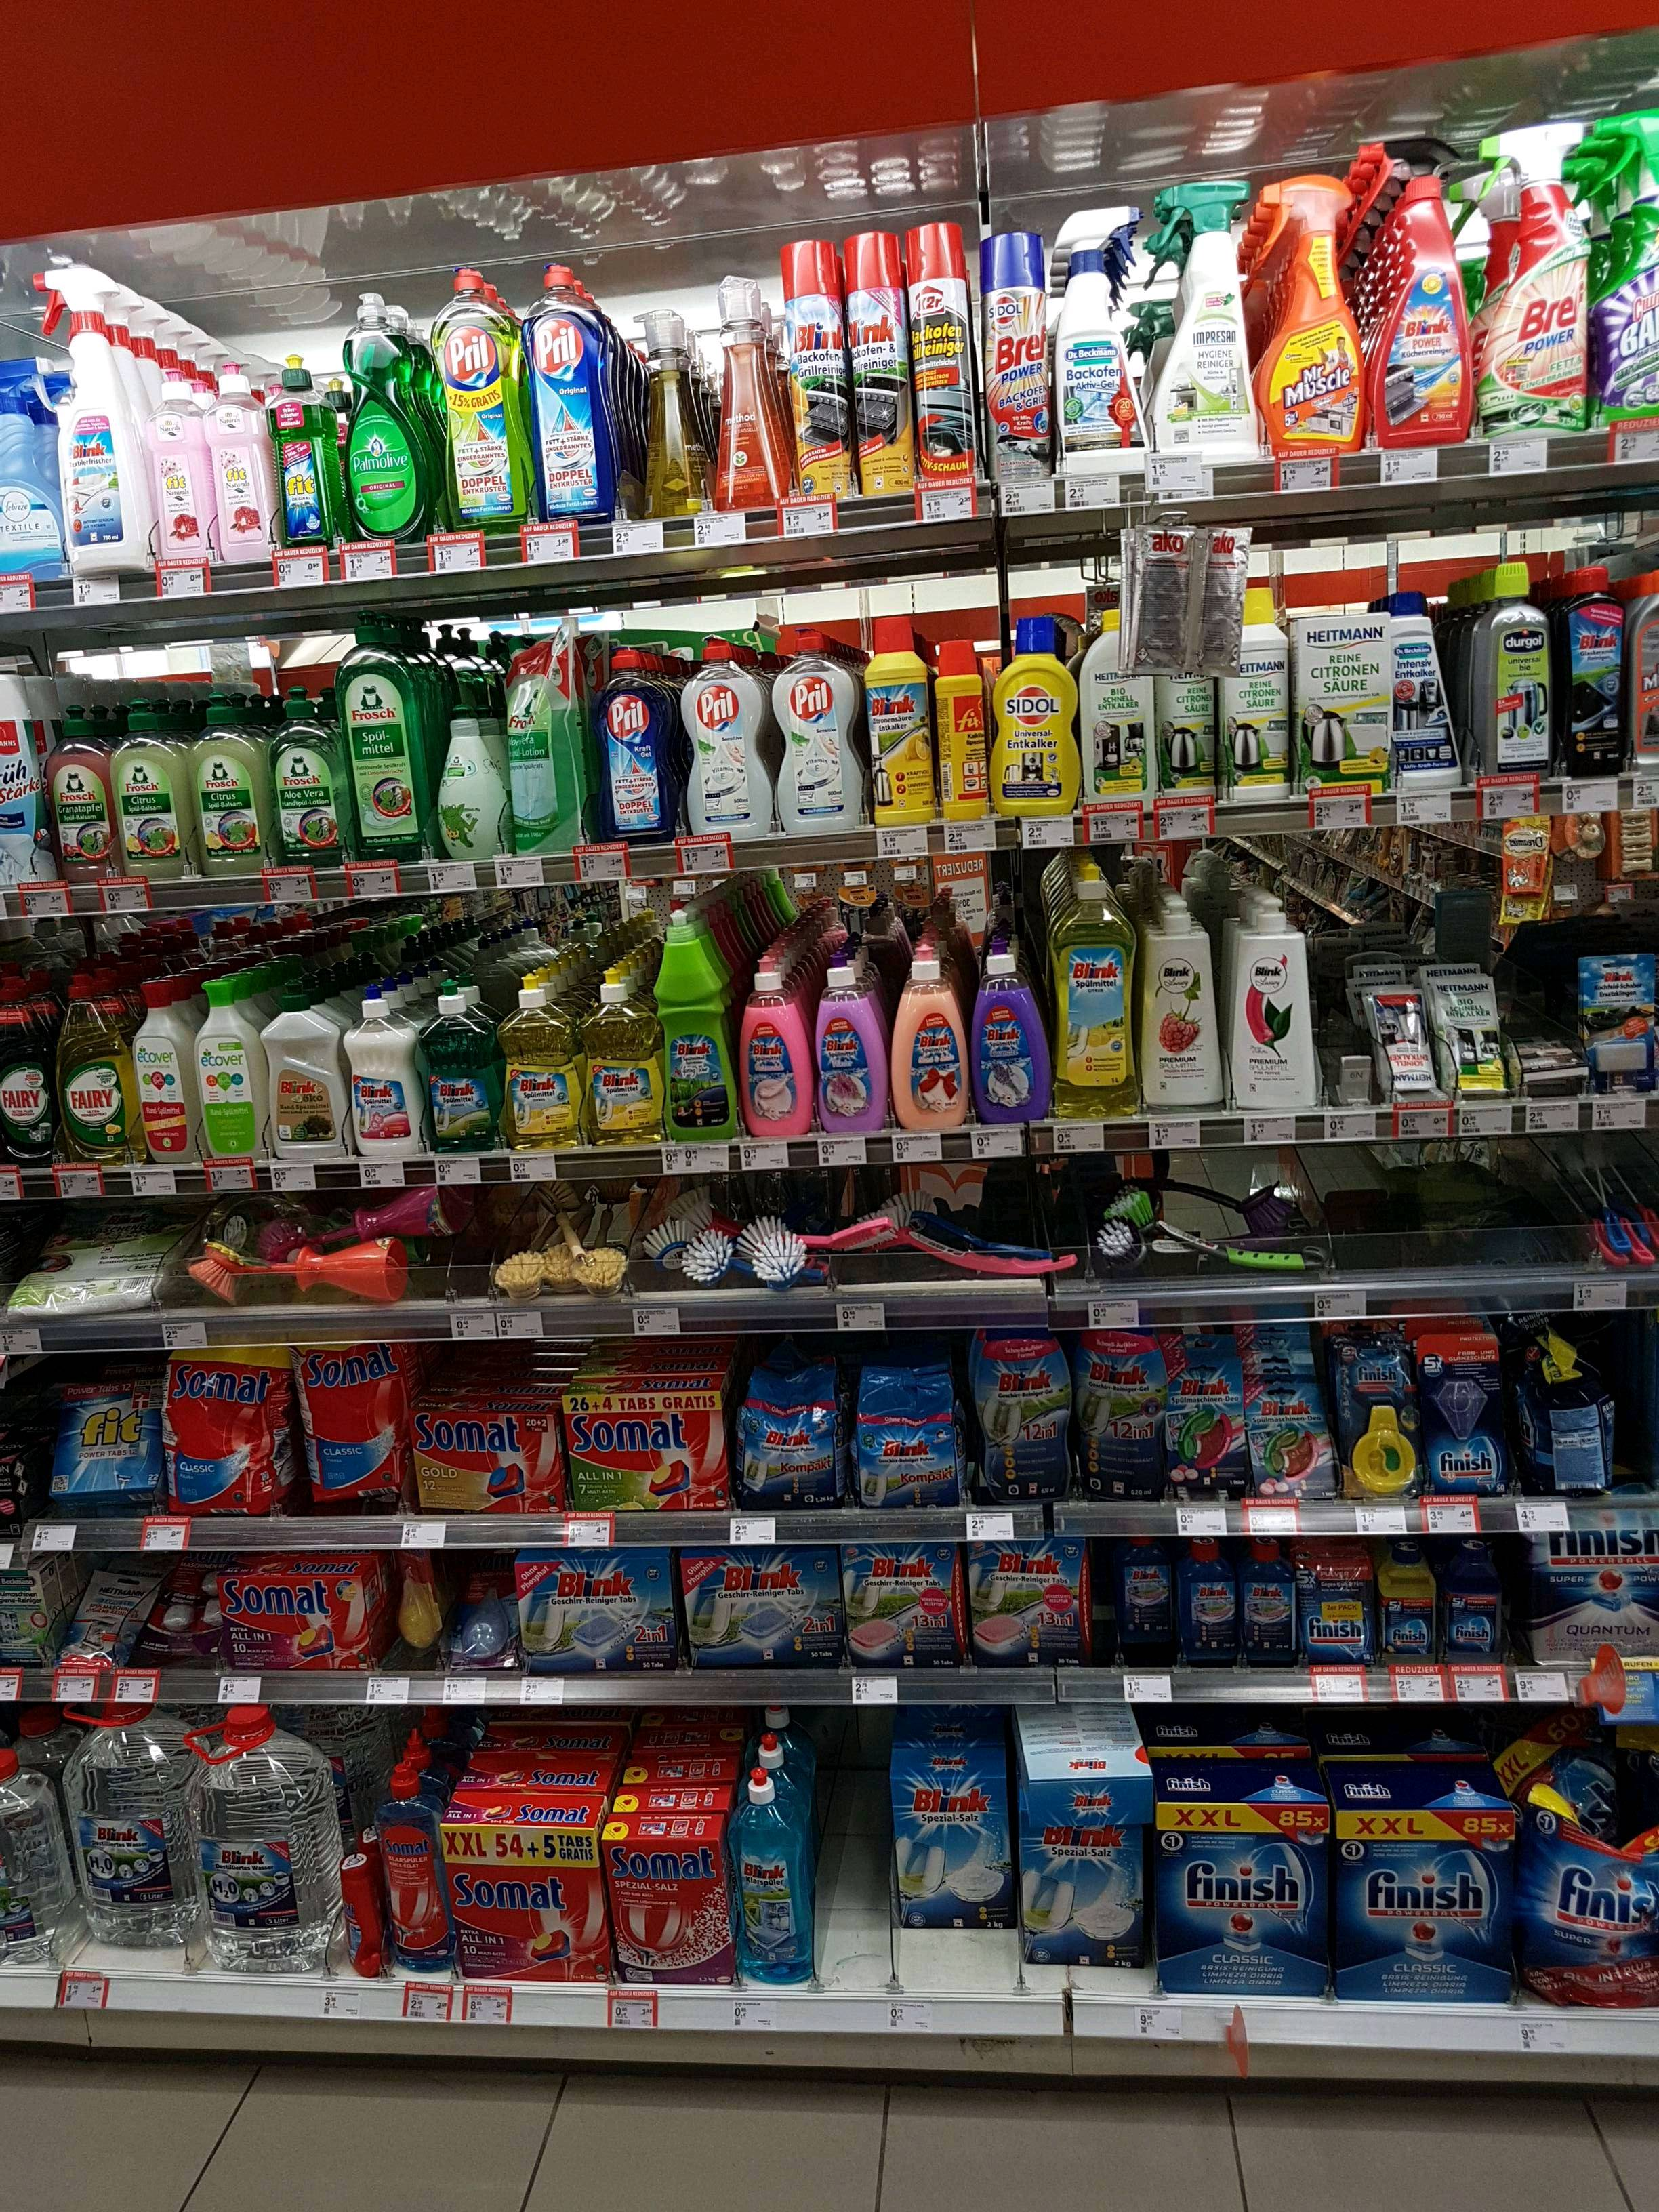Misplacement: (889, 1756, 1026, 2000)
